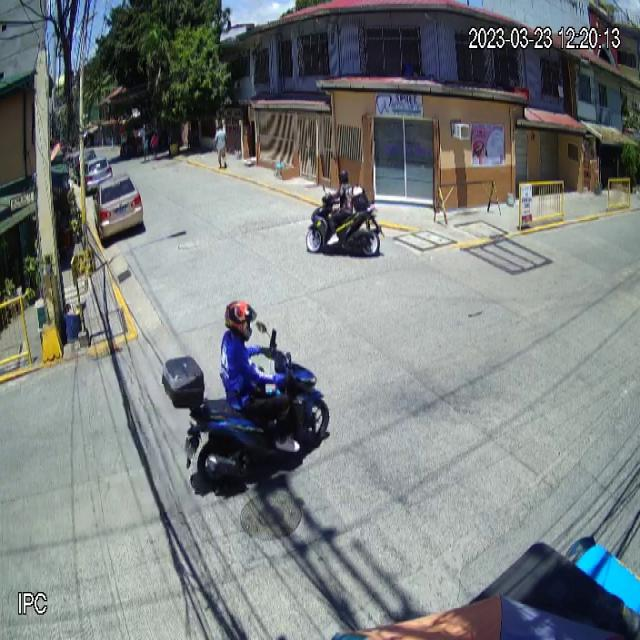Motorcycle: (160, 352, 332, 491), (306, 192, 385, 260)
